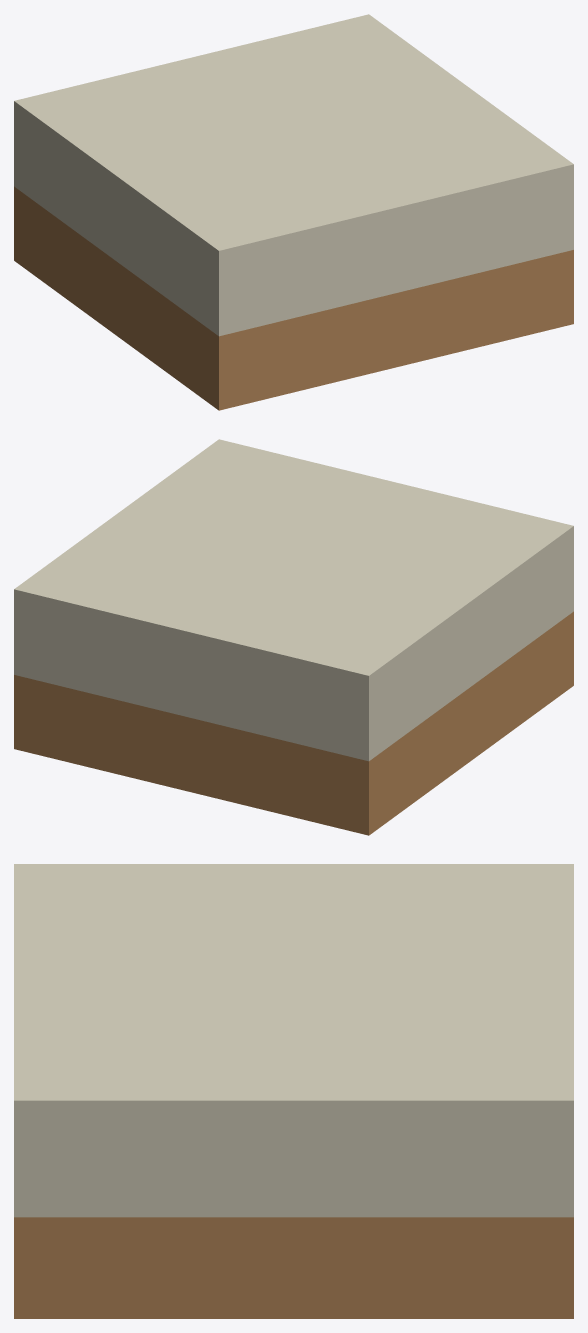
File: Building 2.FBX
3 renders of one model, top to bottom at view 1: azimuth 30°, elevation 25°; view 2: azimuth 150°, elevation 25°; view 3: azimuth 270°, elevation 25°, orthographic. The views are drawn at different scales.
Visible parts, largest first — view 1: Group268, Group269; view 2: Group268, Group269; view 3: Group268, Group269.
Boxes of the visible parts, box(x1,y1,x2,y2) form: Group268: box(14, 14, 573, 410); Group269: box(72, 35, 486, 210); Group268: box(14, 439, 573, 835); Group269: box(71, 478, 475, 655); Group268: box(14, 864, 573, 1318); Group269: box(119, 893, 538, 1070).
Bounding box in the file's own units: 39.37 × 16.93 × 39.37.
